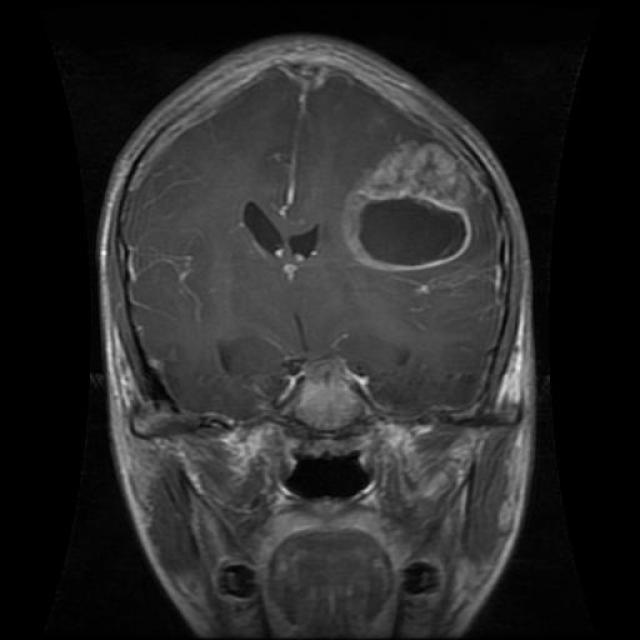glioma: (344, 140, 474, 272)
